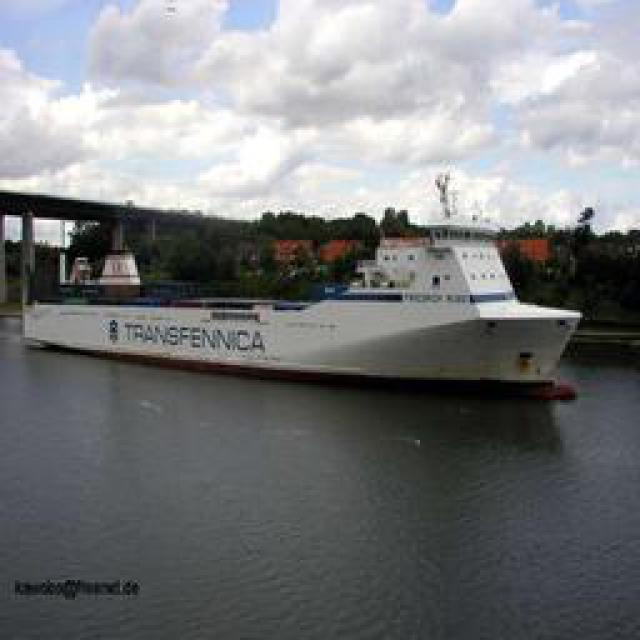Ship: (20, 198, 595, 396)
